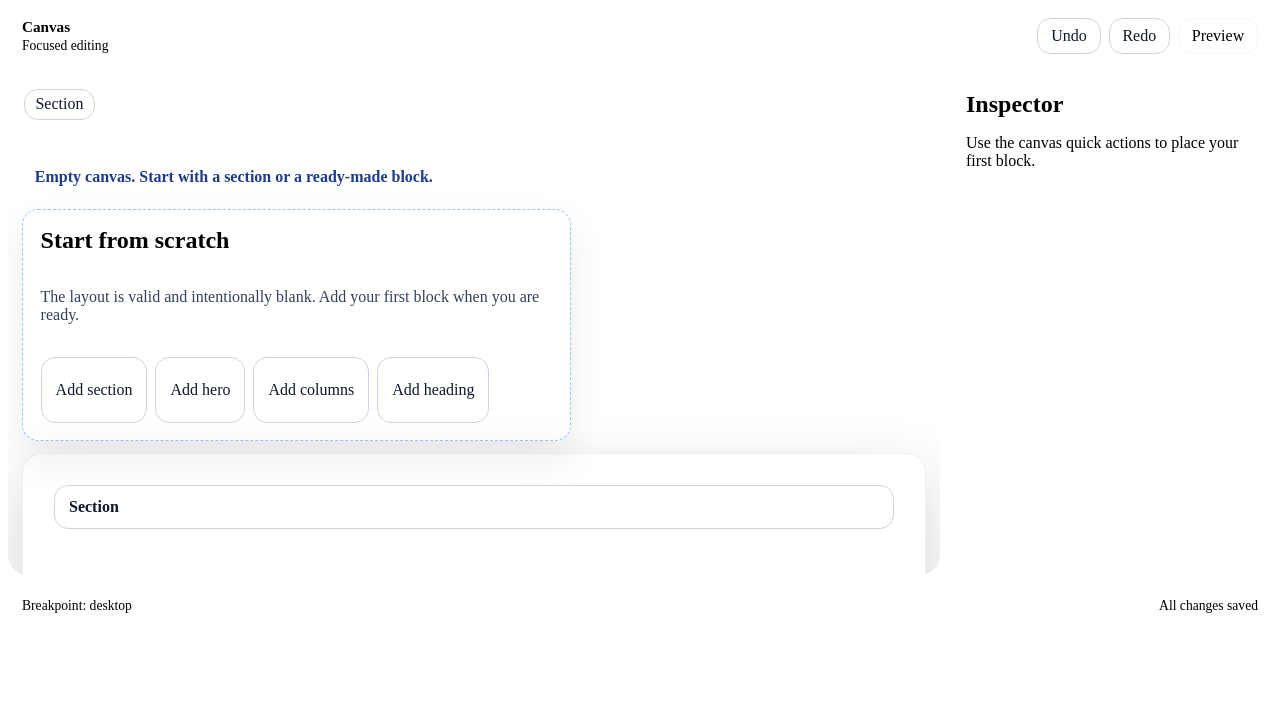
Test: editor shell flow › lets the empty-state create and select the first section block
Click the button "Add section". click: coordinates (94, 390)
box: x1=41 y1=357 x2=148 y2=423
(page scrolled)
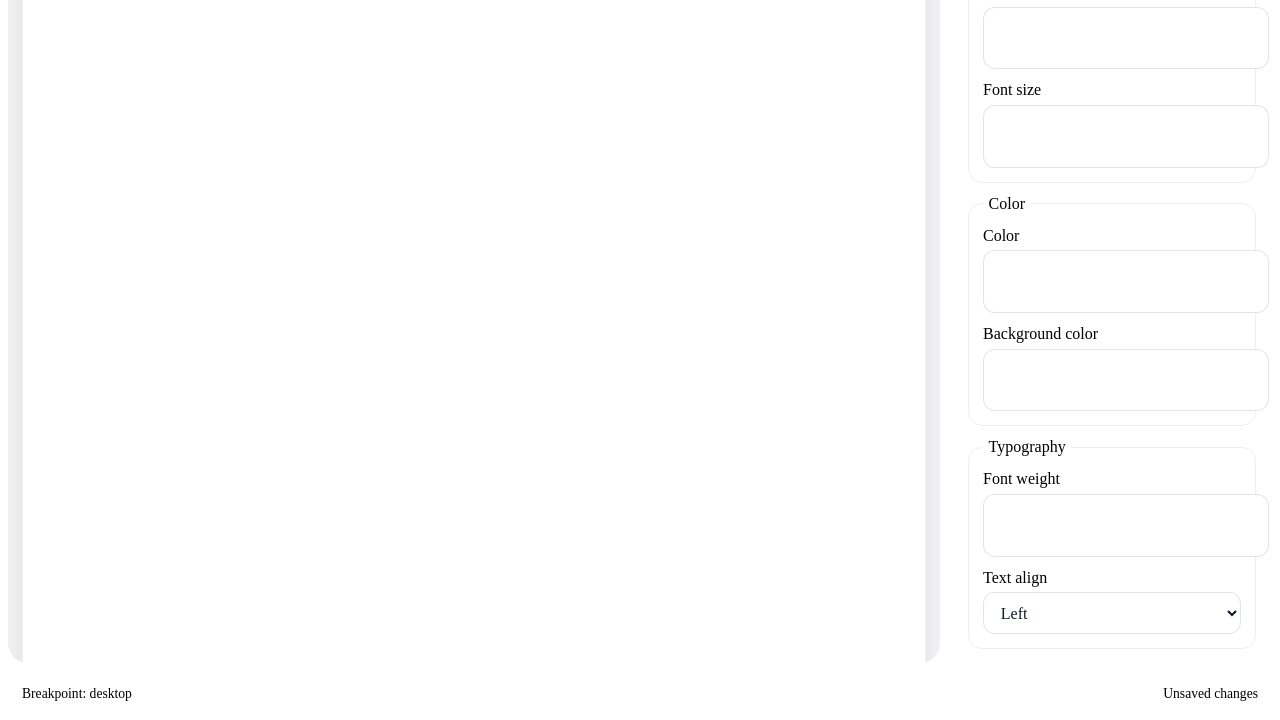
Result: the text "Unsaved changes" is shown at x1=1163 y1=686 x2=1258 y2=702
